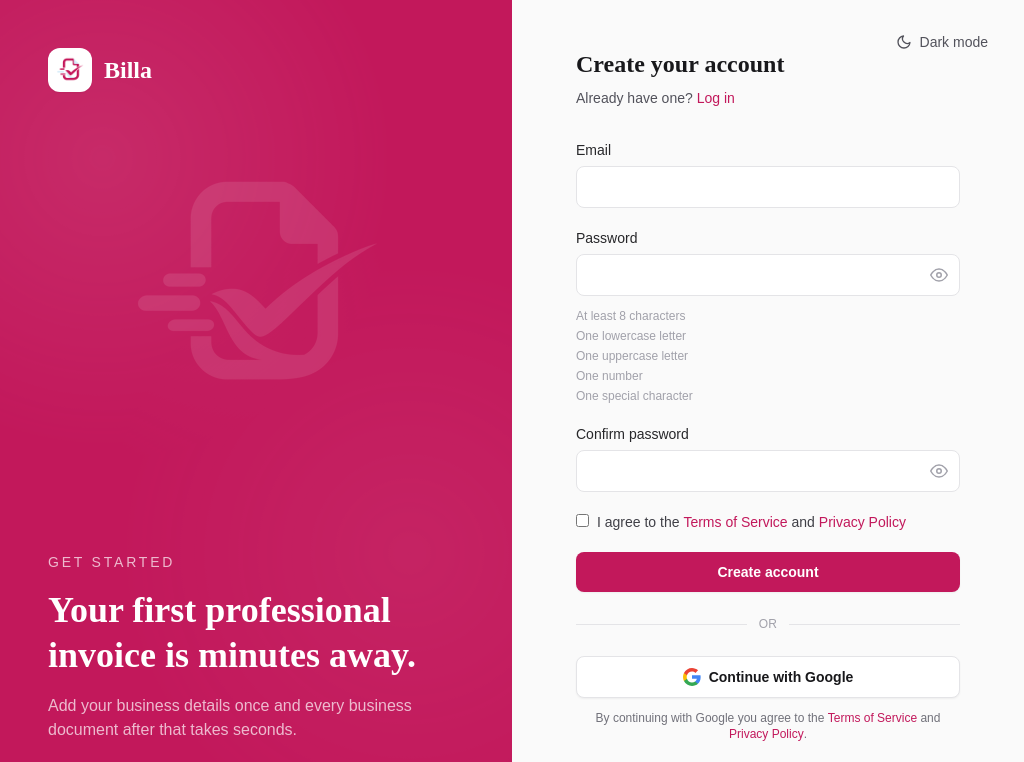
Test: Register › shows an error banner when the email is already taken
In the field labelled "Email": [768, 187] box x1=576 y1=166 x2=960 y2=208, type "owner@example.com"
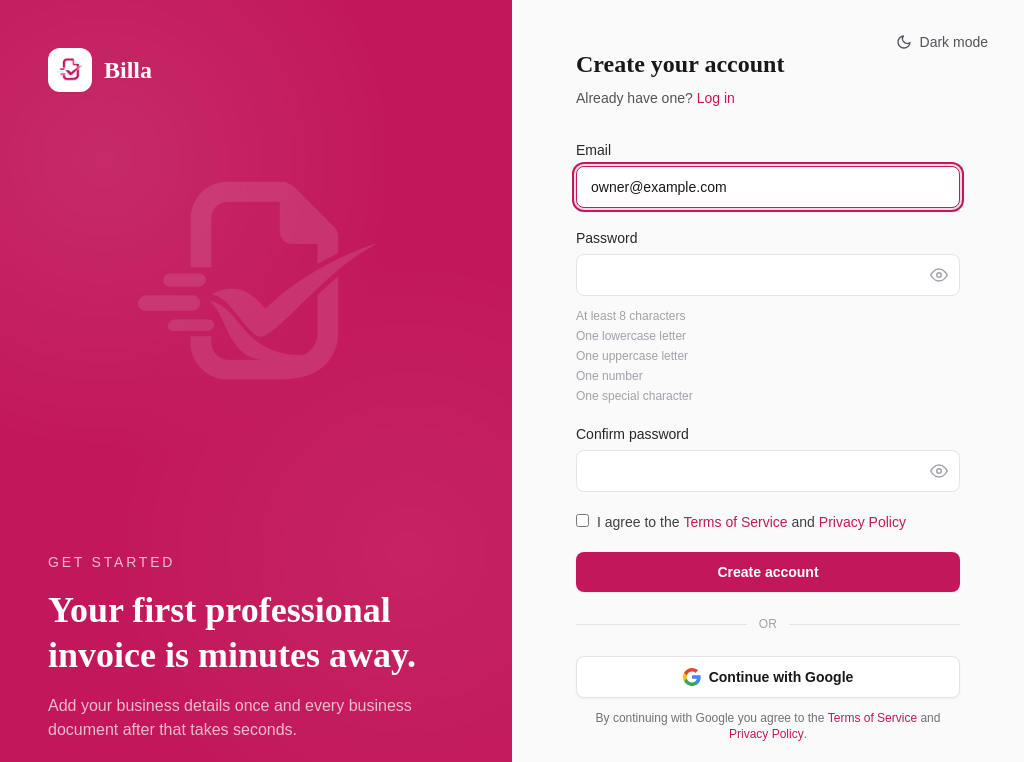
In the password field labelled "Password": [768, 275] box x1=576 y1=254 x2=960 y2=296, type "Supersecret1!"
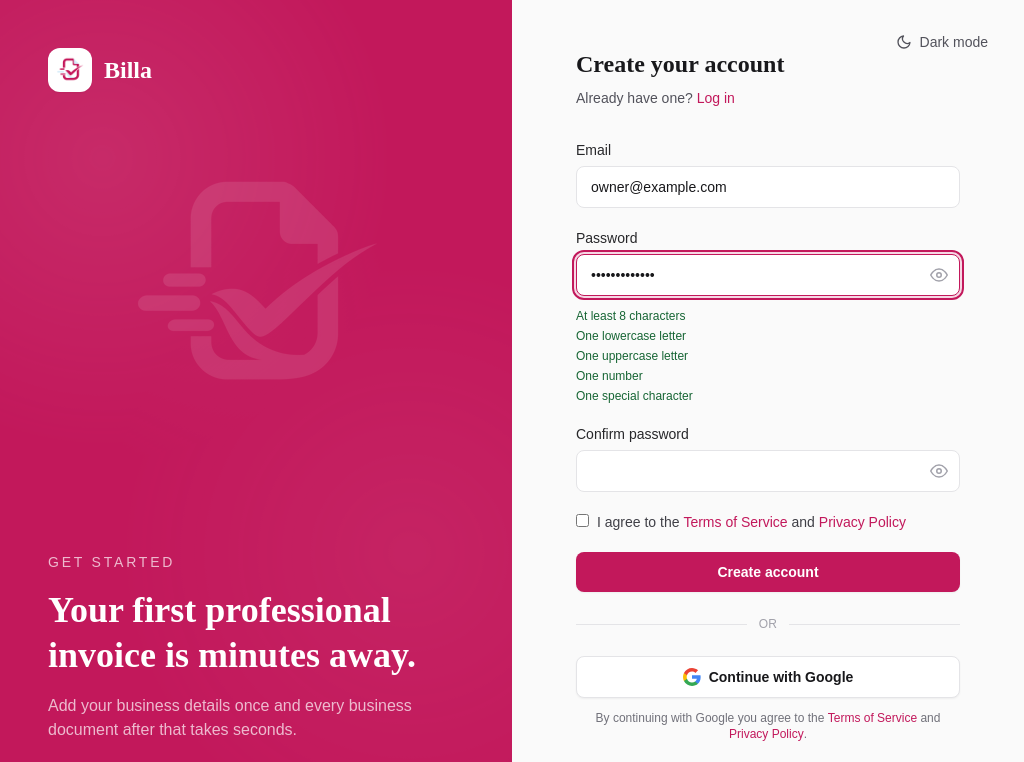
In the password field labelled "Confirm password": [768, 471] box x1=576 y1=450 x2=960 y2=492, type "Supersecret1!"
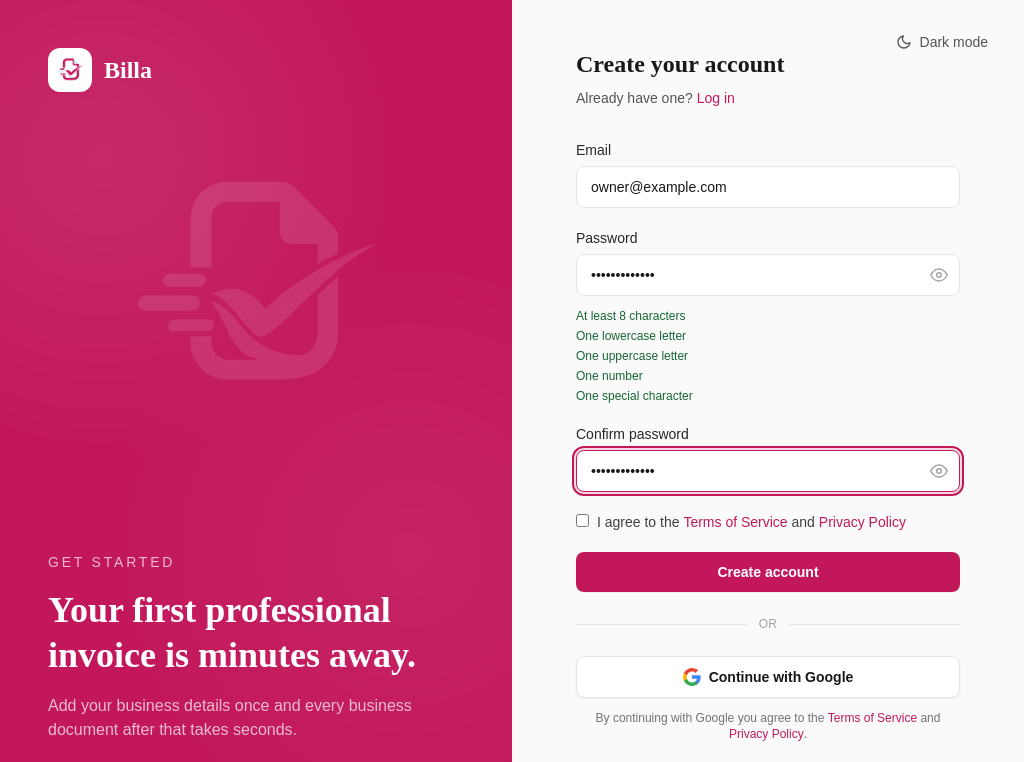
Click the checkbox labelled "I agree to the Terms of Service and Privacy Policy": [582, 520] box x1=576 y1=514 x2=589 y2=527
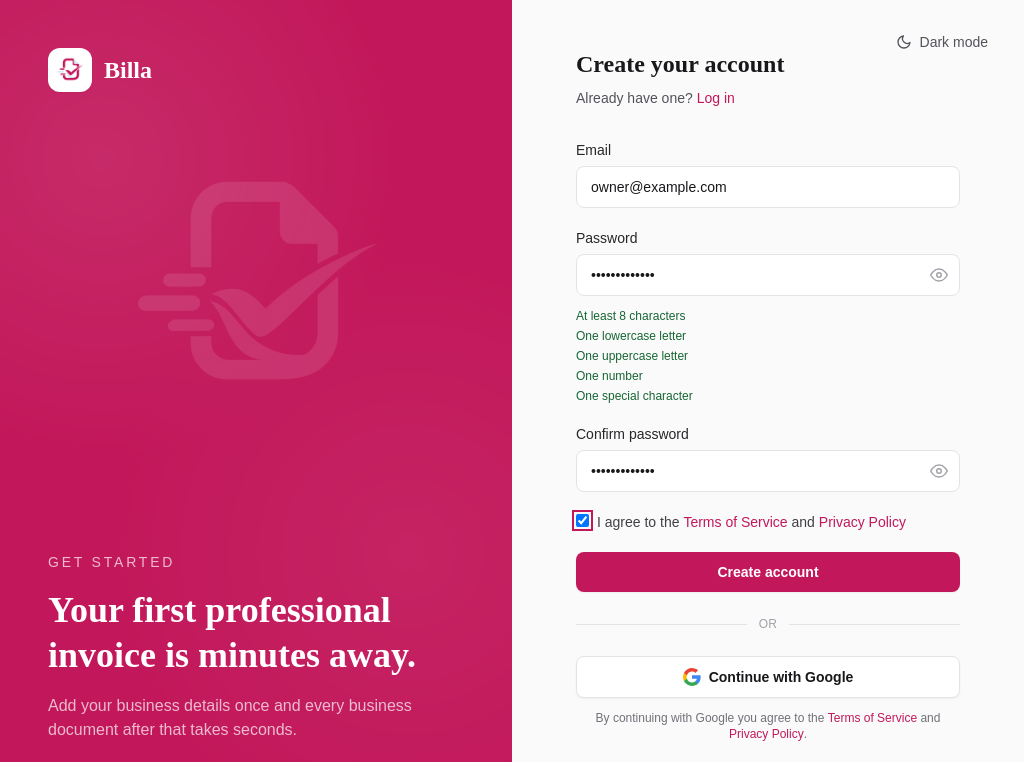
Click the button "Create account": [768, 572] box x1=576 y1=552 x2=960 y2=592
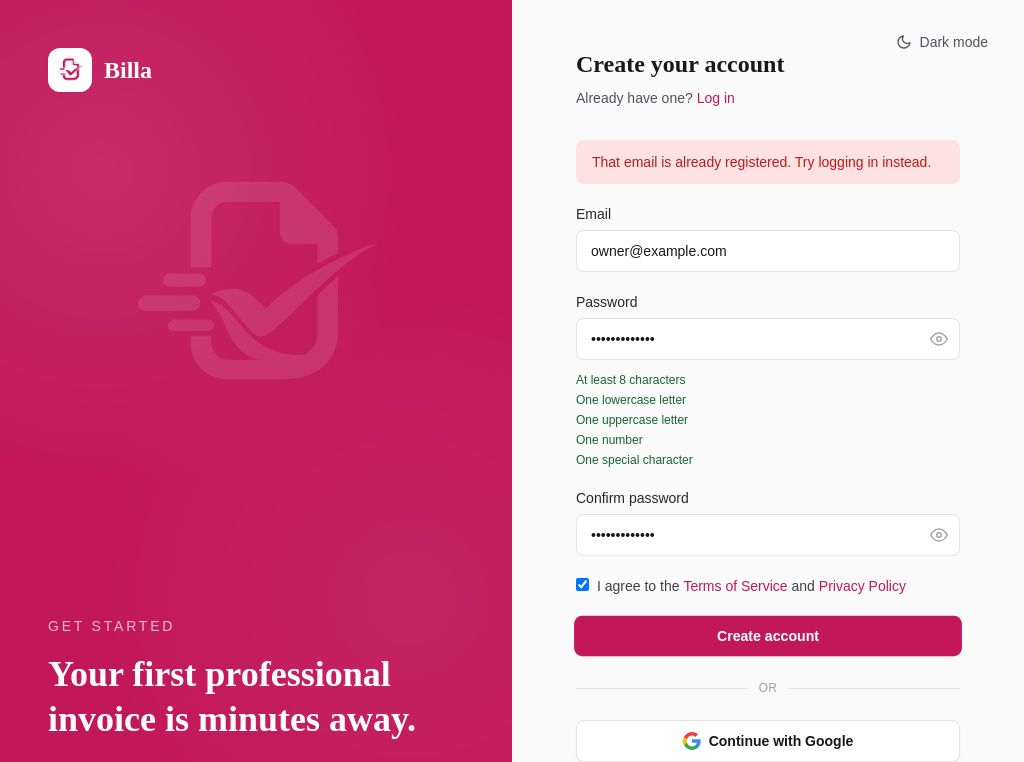
Now the text "That email is already registered. Try logging in instead." is shown, box x1=576 y1=140 x2=960 y2=184
